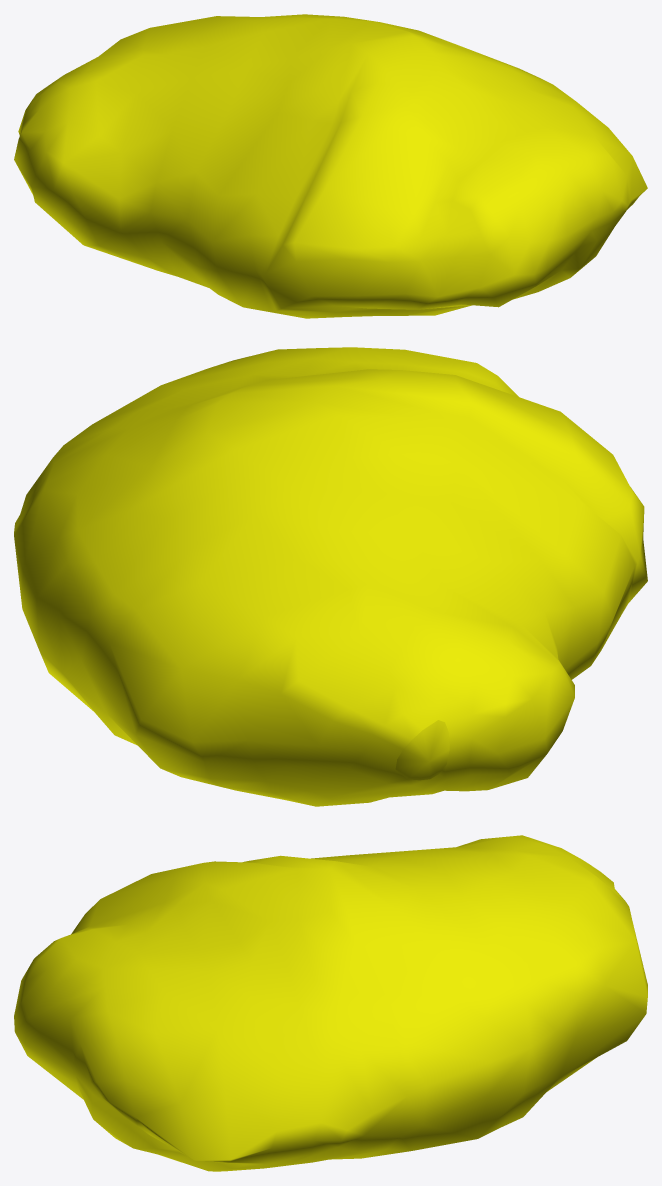
File: SM_Rock2.fbx
3 views of the same model, one above another, from view 1: azimuth 30°, elevation 25°; view 2: azimuth 150°, elevation 25°; view 3: azimuth 270°, elevation 25° (orthographic). The views are drawn at different scales.
Parts seen in each view (by area): view 1: RockOneLow; view 2: RockOneLow; view 3: RockOneLow.
Boxes of the visible parts, bbox=[...] form: RockOneLow: bbox=[14, 14, 647, 318]; RockOneLow: bbox=[14, 347, 647, 806]; RockOneLow: bbox=[14, 835, 647, 1171].
Size of the model in its own units: 2.29 by 1.13 by 2.41.
